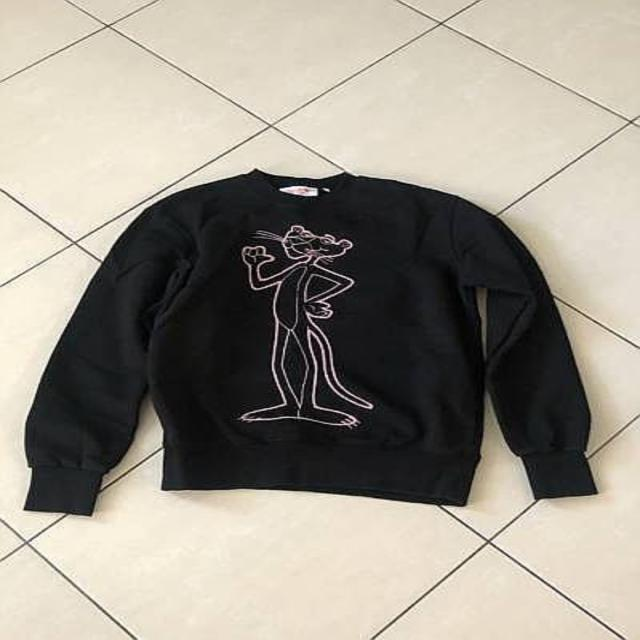SHIRT: (10, 146, 640, 519)
